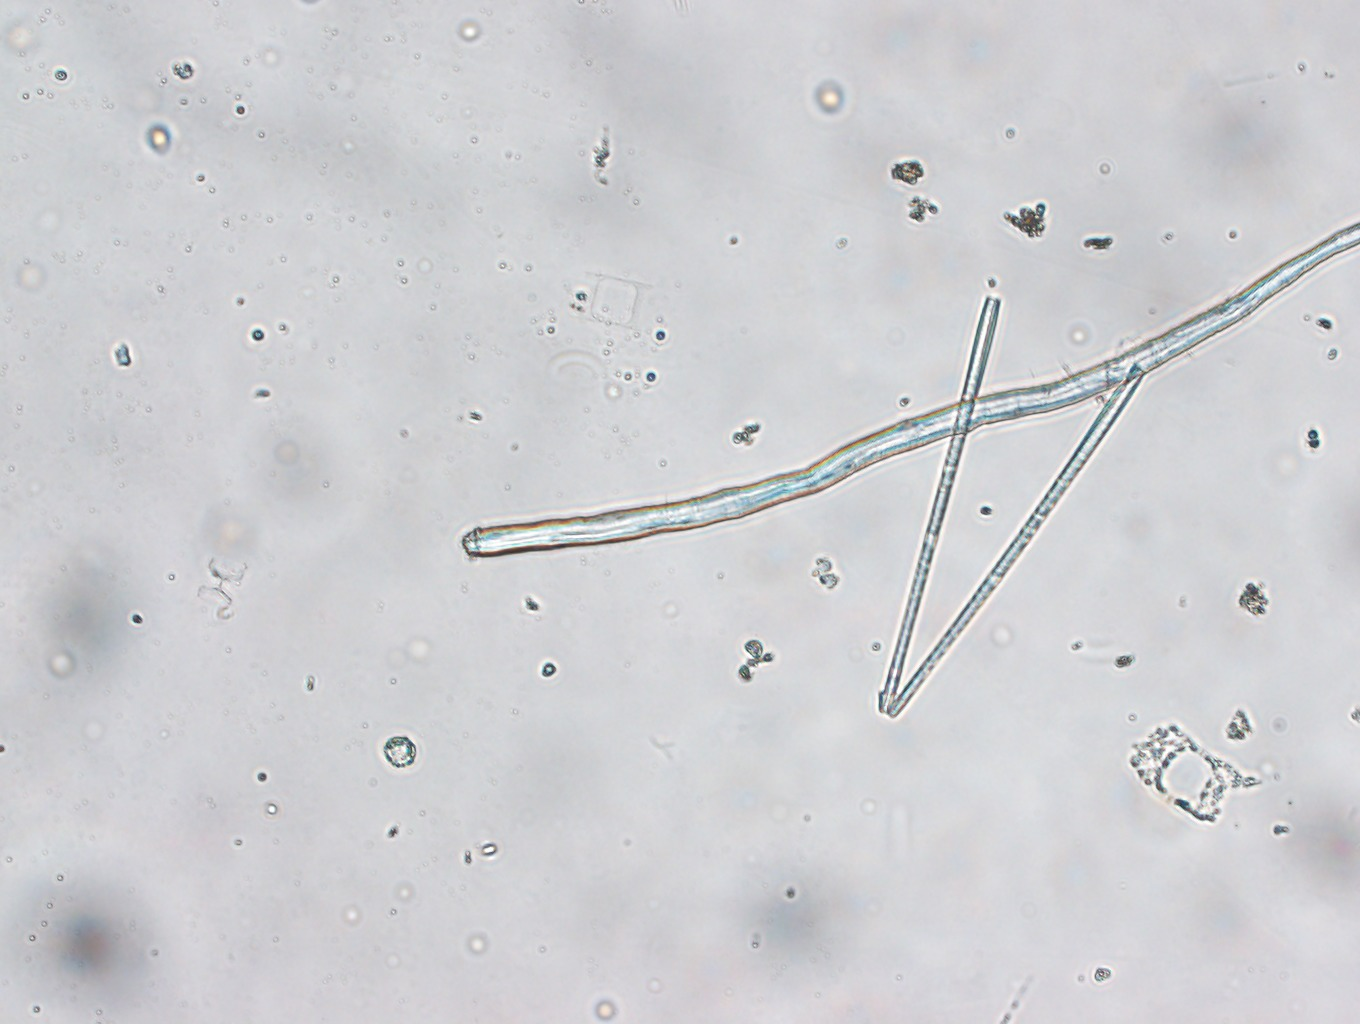thalassionema frauenfeldii: (885, 296, 1145, 721)
